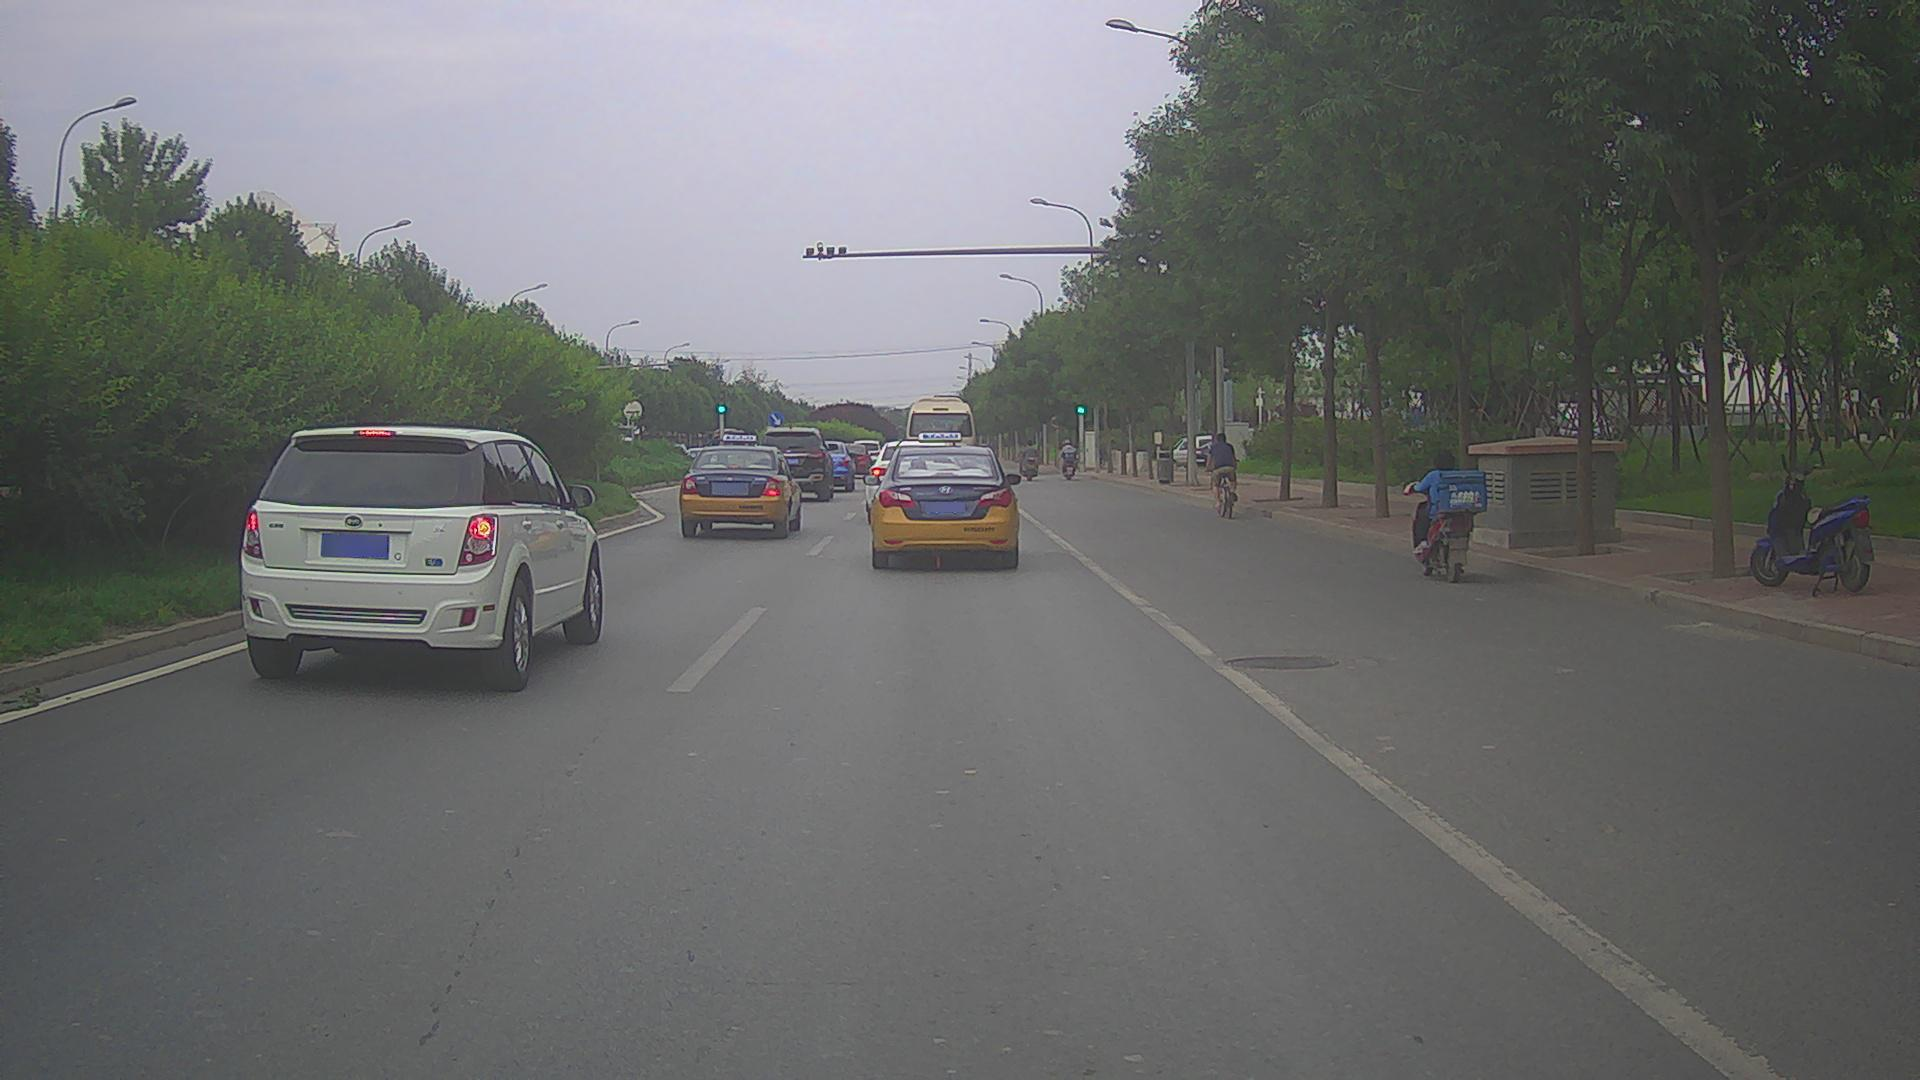bus: (905, 396, 979, 487)
car: (241, 425, 602, 691), (862, 432, 1021, 568), (679, 434, 803, 538), (864, 440, 961, 526), (753, 425, 838, 501), (1540, 401, 1615, 447), (795, 439, 857, 492), (1170, 435, 1245, 468), (834, 443, 874, 479), (853, 440, 882, 471)
cyclist: (1205, 432, 1238, 519)
ignore: (675, 442, 701, 457)
motorcyclist: (1402, 451, 1488, 582), (1055, 438, 1076, 480), (1019, 439, 1038, 480)
pedestrian: (1869, 393, 1883, 440), (1838, 391, 1852, 441), (1105, 438, 1116, 473)
